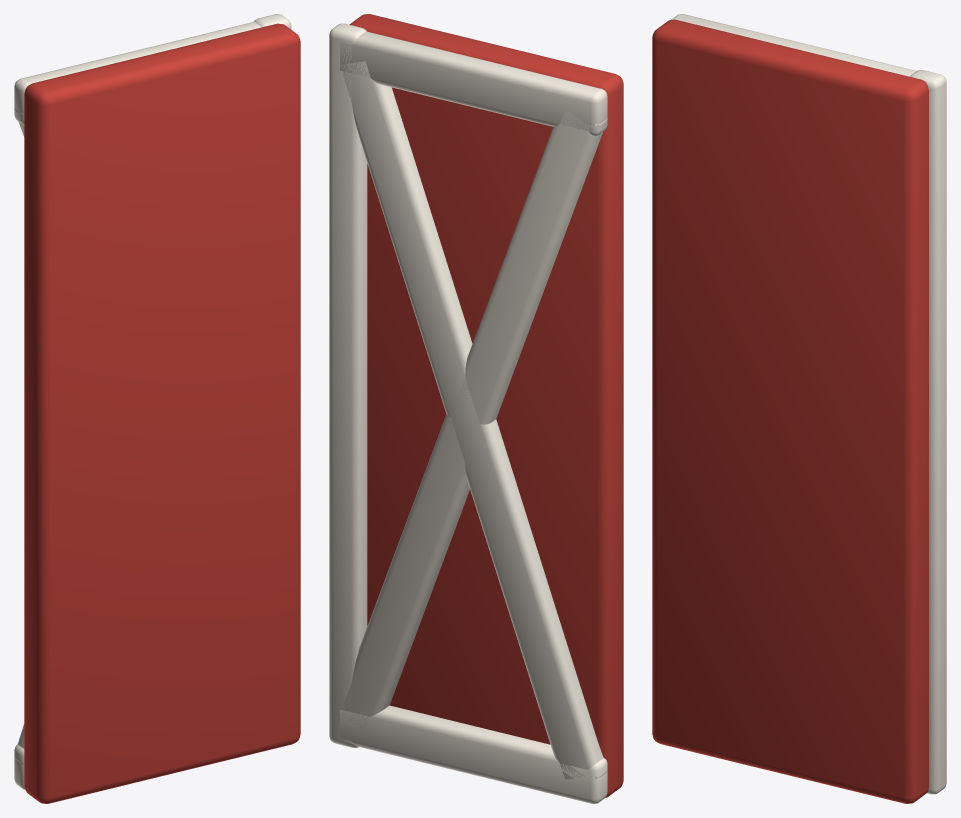
File: Barn_DoorR.fbx
3 renders of one model, left to right at view 1: azimuth 30°, elevation 25°; view 2: azimuth 150°, elevation 25°; view 3: azimuth 330°, elevation 25°, orthographic.
Visible parts, largest first — view 1: Barn_DoorR; view 2: Barn_DoorR; view 3: Barn_DoorR.
Boxes of the visible parts, x1,y1,x2,y2 form: Barn_DoorR: (14,14,300,803); Barn_DoorR: (329,14,623,803); Barn_DoorR: (652,14,946,803).
Size of the model in its own units: 0.5952 by 1.5 by 0.115.
1 material, 1 textured.
